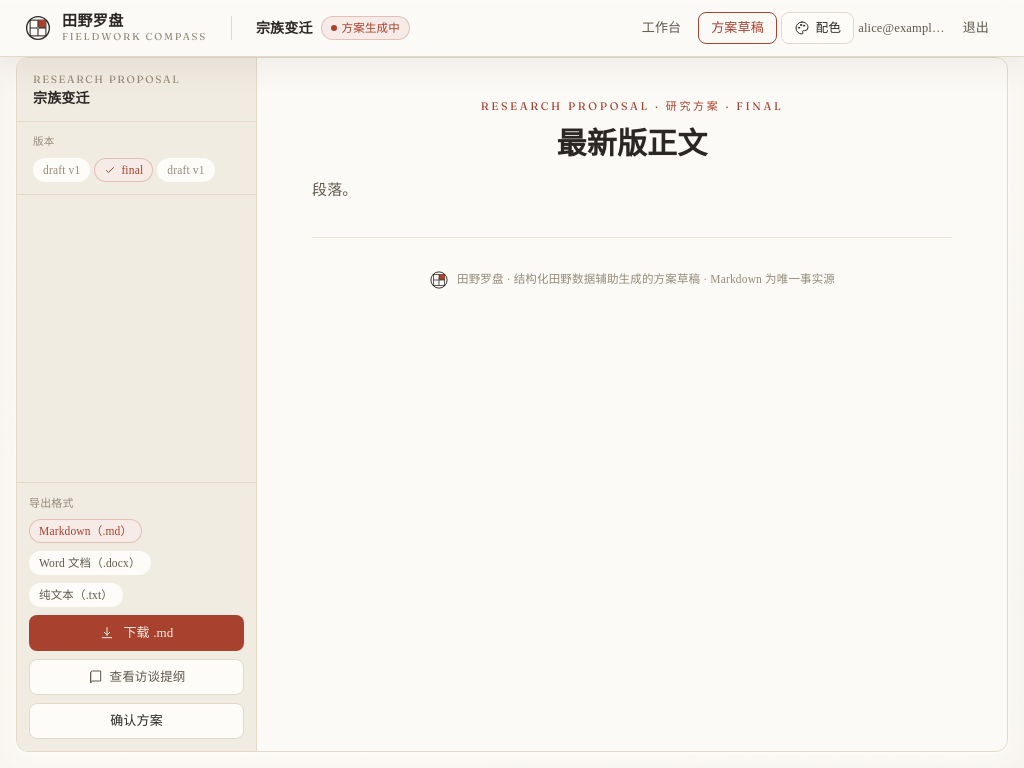
Test: ProposalView 下载入口认证处理（T02/T03） › T02：普通下载错误（500）不误报会话失效，正文保留
Expected: the heading "最新版正文" is shown, left=557, top=126, right=707, bottom=160
Step 1. Click the button "下载 .md" → (136, 633), box left=29, top=615, right=244, bottom=651
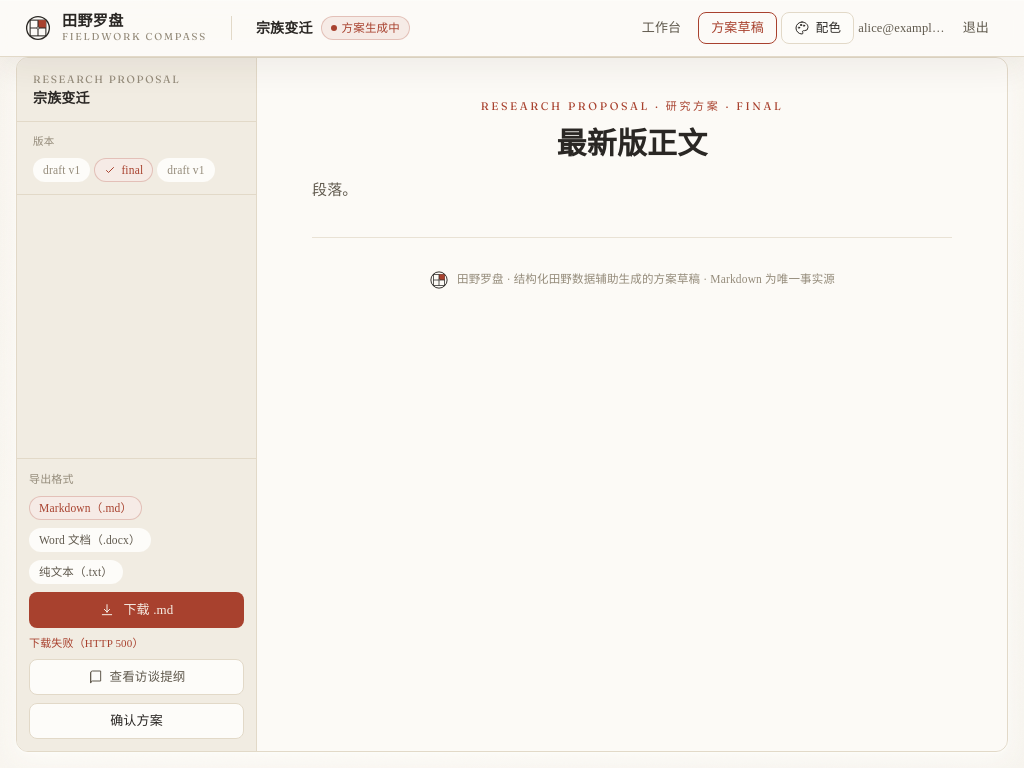
Expected: the heading "最新版正文" is shown, left=557, top=126, right=707, bottom=160
Result: the text "下载失败（HTTP 500）" is shown at left=29, top=637, right=144, bottom=649
